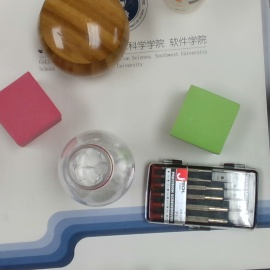bottle: (58, 130, 134, 207)
chess: (38, 1, 130, 78)
